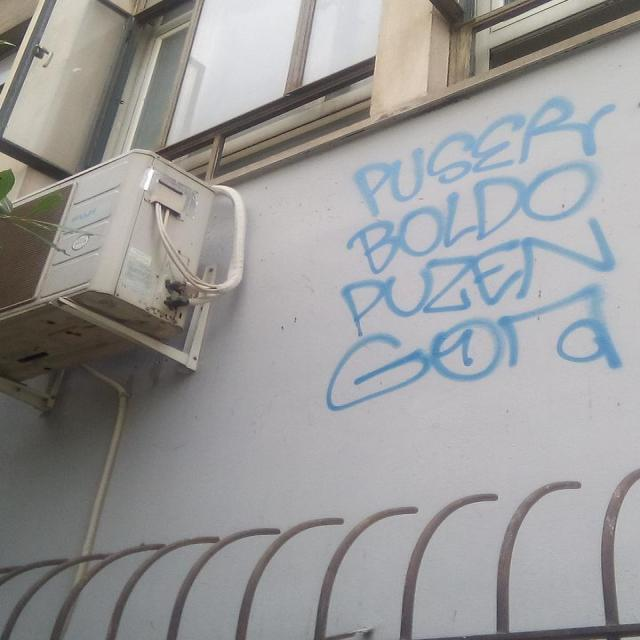nonspitting: (326, 94, 624, 410)
